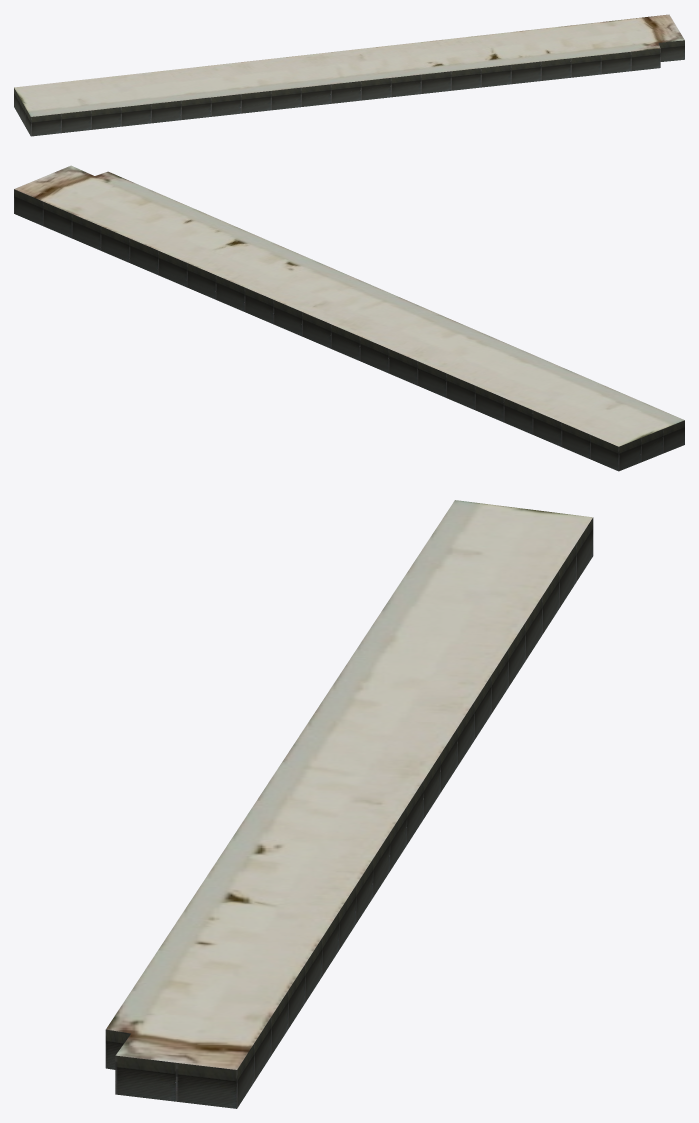
3 views of the same model, one above another, from view 1: azimuth 30°, elevation 25°; view 2: azimuth 150°, elevation 25°; view 3: azimuth 270°, elevation 25° (orthographic). The views are drawn at different scales.
Visible parts, largest first — view 1: SketchUp (×4); view 2: SketchUp (×3); view 3: SketchUp (×3).
Part boxes in pixels (<box>): SketchUp (×4): <box>14,14,684,136</box>; SketchUp (×3): <box>14,165,684,471</box>; SketchUp (×3): <box>106,500,593,1108</box>.
Bounding box in the file's own units: 125 × 45.04 × 3.97.
Materials: 2 (2 with a texture image).
